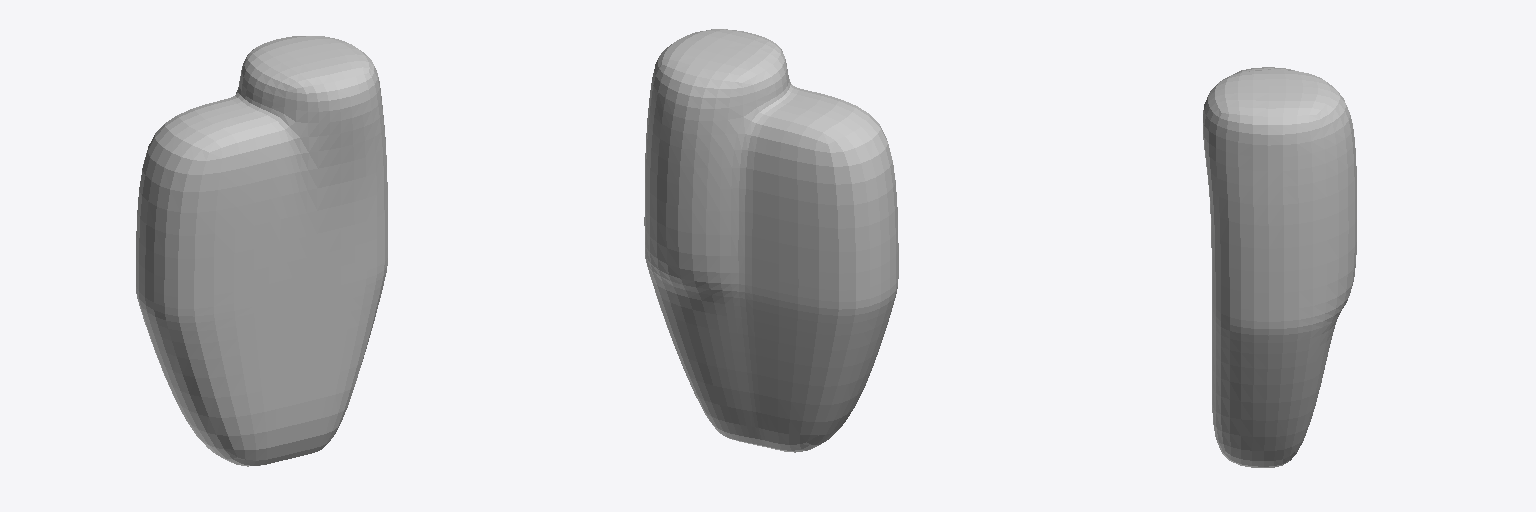
Rendered from Right_Engine.obj.
3 views of the same model, side by side, from view 1: azimuth 30°, elevation 25°; view 2: azimuth 150°, elevation 25°; view 3: azimuth 270°, elevation 25° (orthographic).
Visible parts, largest first — view 1: Right_Engine_Cube; view 2: Right_Engine_Cube; view 3: Right_Engine_Cube.
Boxes of the visible parts, <box> form: Right_Engine_Cube: <box>136,36,387,466</box>; Right_Engine_Cube: <box>644,29,898,452</box>; Right_Engine_Cube: <box>1203,67,1356,467</box>.
Bounding box in the file's own units: 2.85 × 4.51 × 1.64.